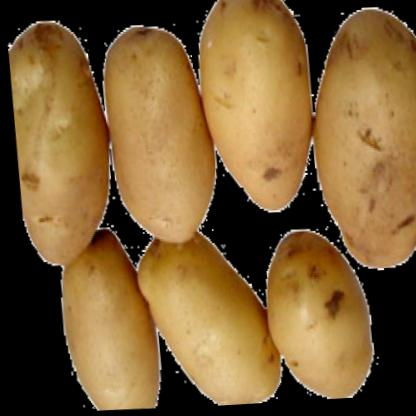--: (296, 8, 416, 279), (92, 14, 222, 253), (2, 17, 120, 274), (184, 0, 320, 220), (125, 223, 278, 411), (249, 222, 373, 405), (45, 225, 155, 413)
